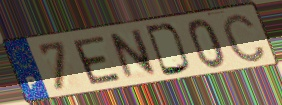0: (187, 17, 228, 70)
7: (37, 38, 71, 93)
C: (219, 11, 269, 64)
D: (143, 22, 194, 78)
E: (70, 33, 124, 86)
N: (107, 27, 160, 83)
